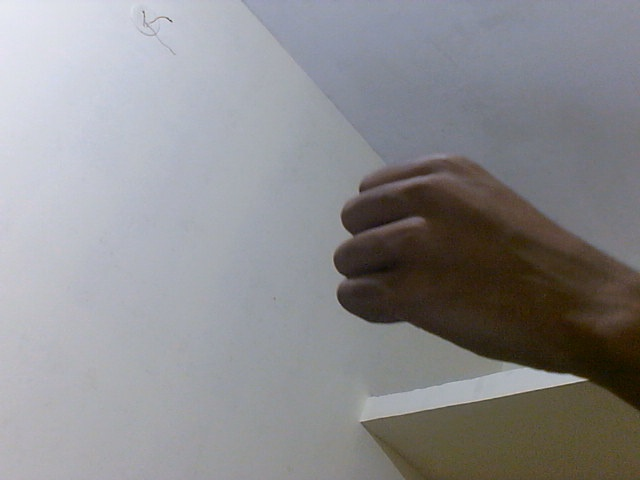hand: (330, 150, 640, 384)
